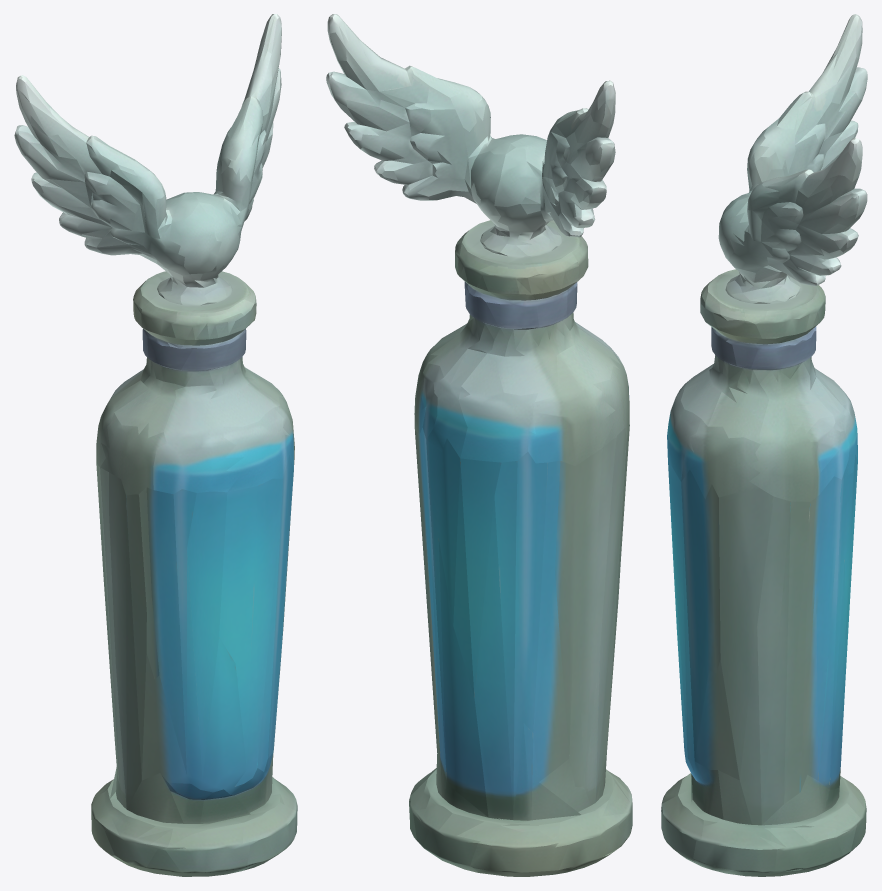
File: swift_tonic.glb
3 renders of one model, left to right at view 1: azimuth 30°, elevation 25°; view 2: azimuth 150°, elevation 25°; view 3: azimuth 270°, elevation 25°, orthographic. The views are drawn at different scales.
Parts seen in each view (by area): view 1: Mesh_0; view 2: Mesh_0; view 3: Mesh_0.
Boxes of the visible parts, left/top/right/bottom form: Mesh_0: left=14, top=14, right=297, bottom=876; Mesh_0: left=326, top=14, right=632, bottom=876; Mesh_0: left=661, top=14, right=867, bottom=876.
Size of the model in its own units: 0.1386 by 0.38 by 0.0934.
1 material, 1 textured.
